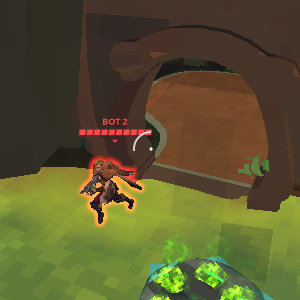model: (79, 152, 136, 232)
